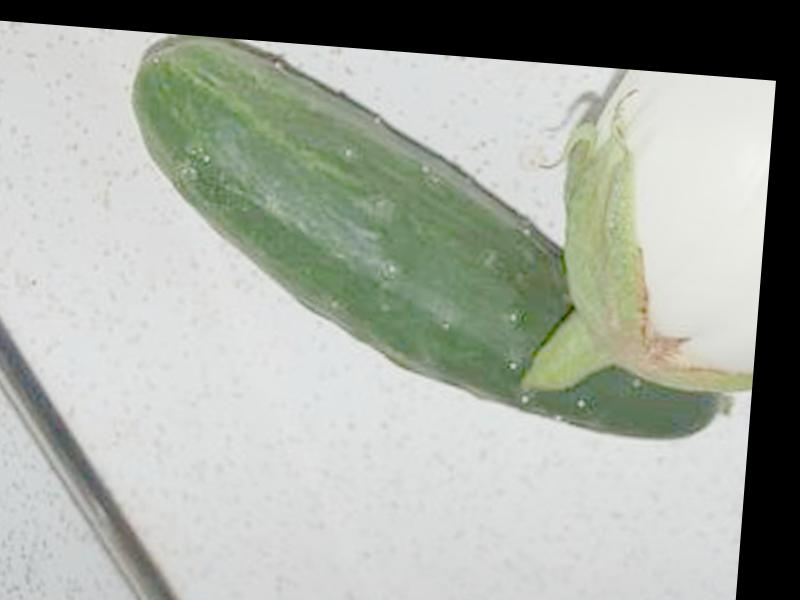Cucumber: (110, 30, 758, 443)
